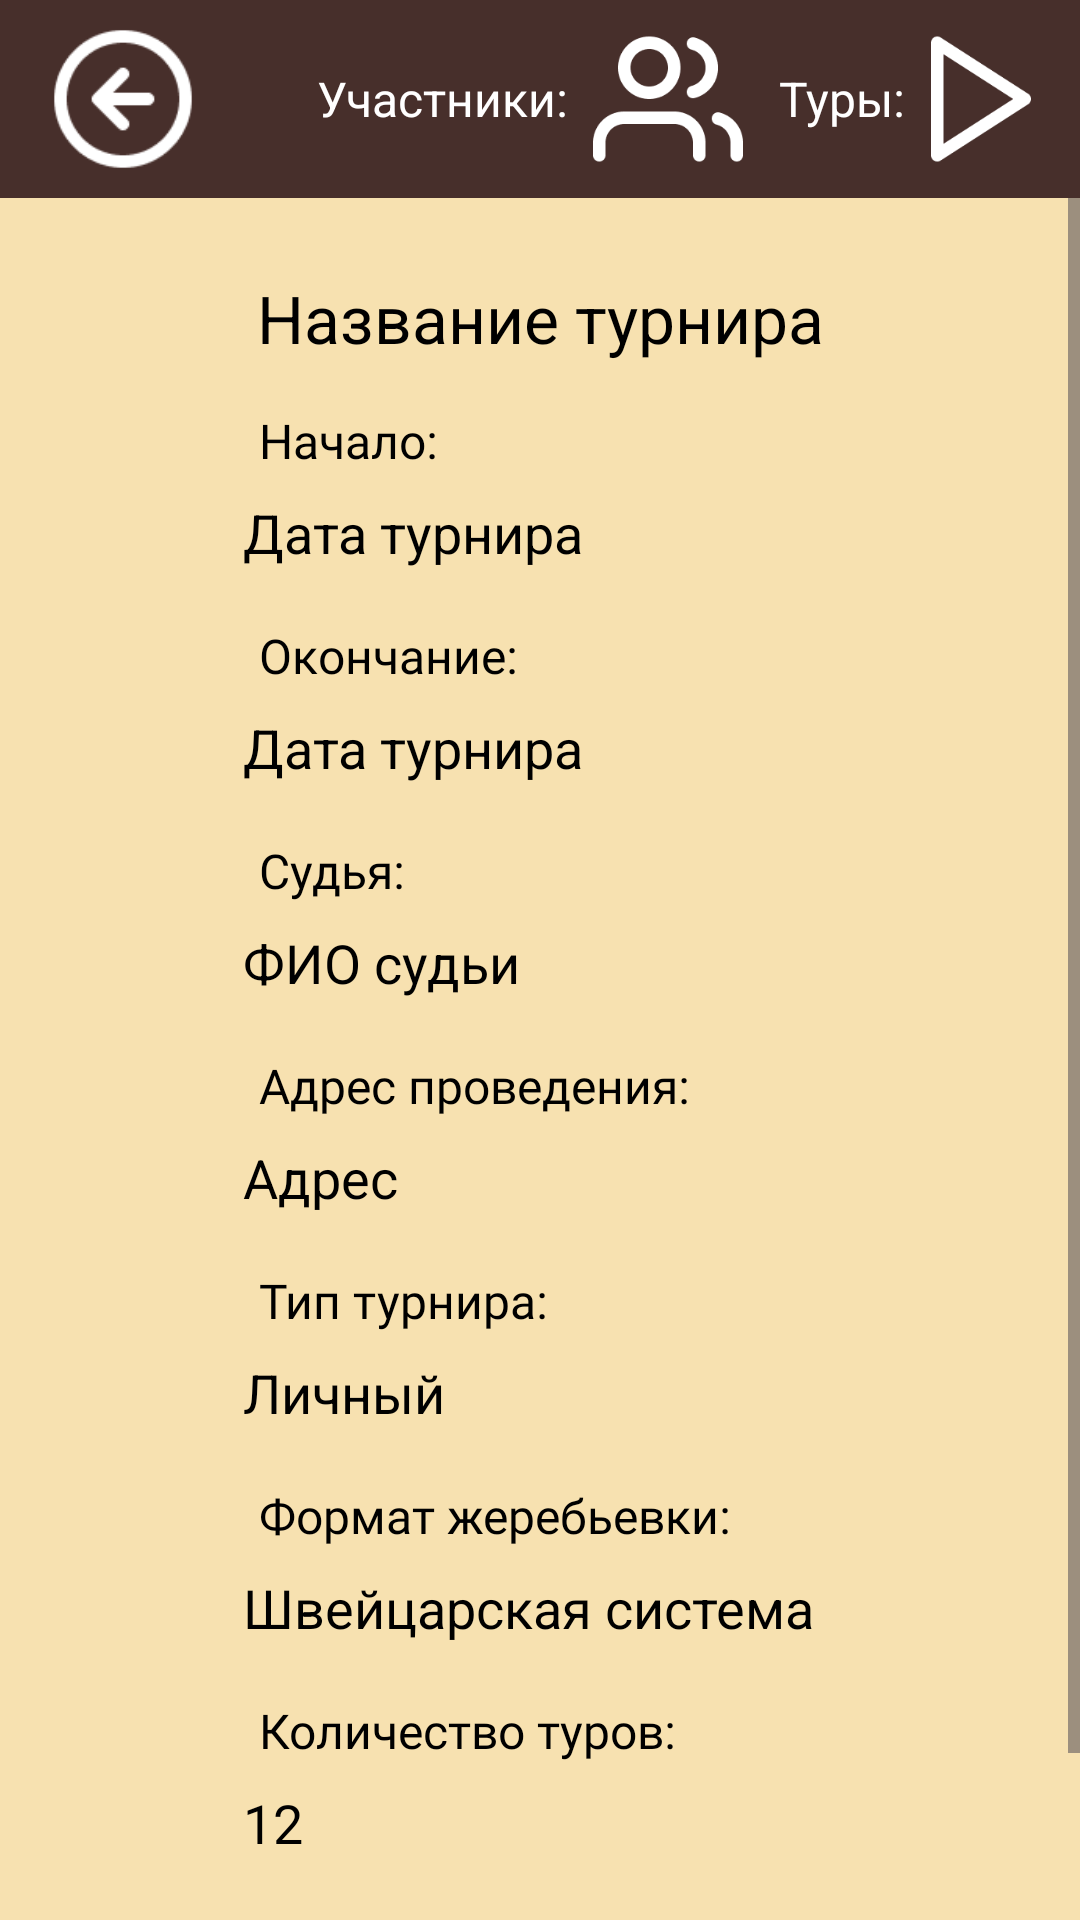

Screen size 1080w x 1920h. Icon name, then its box in pixels as region(x1, y1, x2, y2):
circle arrow: region(54, 30, 192, 168)
play: region(931, 36, 1031, 162)
users: region(593, 36, 743, 162)
